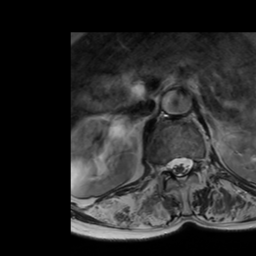CCS_normal: (176, 151, 184, 189)
LFS_stenosis: (193, 150, 203, 176)
LLS_normal: (184, 150, 193, 178)
RFS_stenosis: (159, 155, 167, 179)
RLS_normal: (167, 152, 176, 181)
